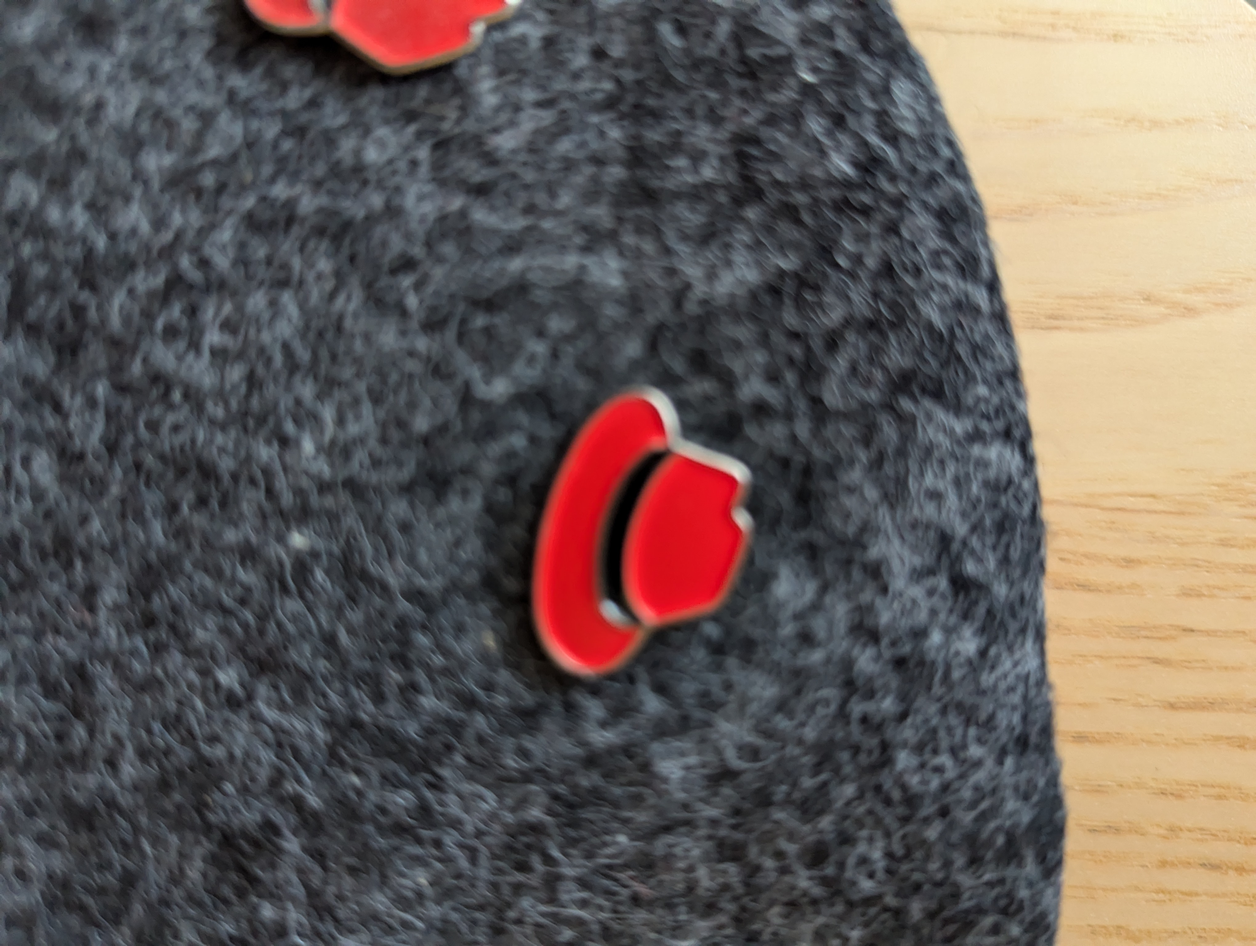Red-Hat: (491, 338, 798, 726)
